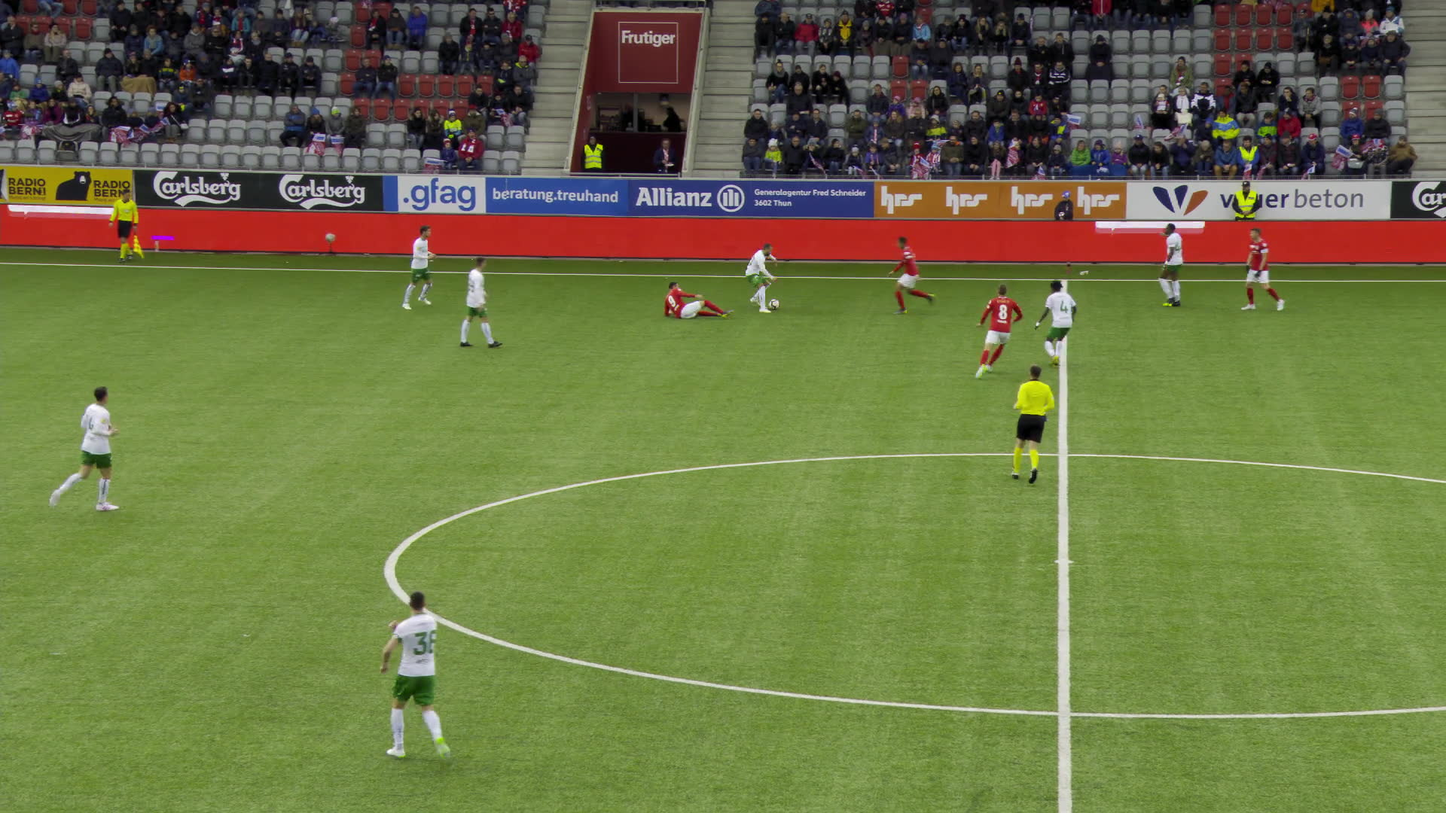ball: (767, 298, 779, 309)
player: (381, 588, 455, 760), (48, 386, 116, 515), (972, 286, 1024, 377), (1036, 282, 1082, 370), (460, 255, 503, 347), (1240, 227, 1286, 311), (892, 235, 937, 313), (401, 224, 438, 310), (1155, 224, 1187, 307), (665, 281, 734, 318), (743, 240, 776, 311)
referee: (1010, 367, 1055, 483), (111, 188, 146, 262)
